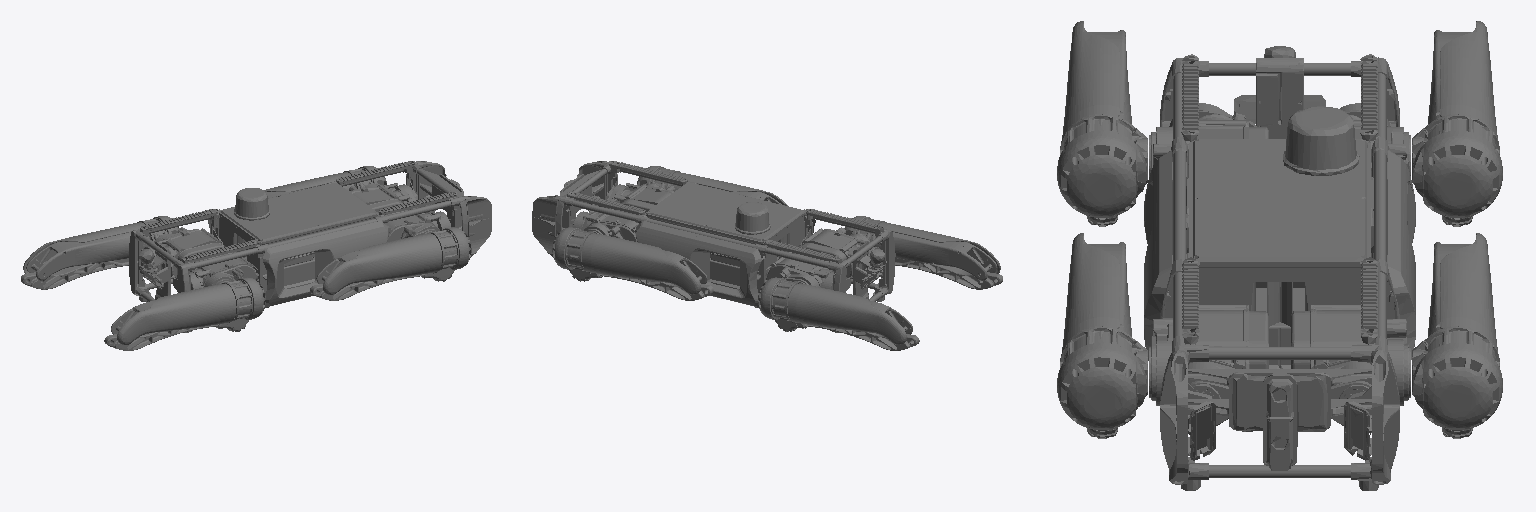
--- What the picture shows (computed from the rendered views, not written in the file) ---
3 views of the same robot in one strip: view 1: azimuth 30°, elevation 25°; view 2: azimuth 150°, elevation 25°; view 3: azimuth 270°, elevation 25° (orthographic).
Robot: vision60_composite — 35 links, 34 joints (12 revolute, 22 fixed); root link body; default pose: every joint at zero.
Visible links, largest first — view 1: body, upper2, upper3, upper1, hip1, hip3, hip2, hip0, lower1, upper0, lower2, lower3; view 2: body, upper0, upper1, upper3, hip3, hip1, hip0, upper2, hip2, lower3, lower1, lower0; view 3: body, upper1, upper0, upper3, upper2, hip2, hip0, hip3, hip1.
Boxes of the visible links, x1,y1,x2,y2 form: body: (129,161,491,332); upper2: (316,227,471,294); upper3: (111,277,265,344); upper1: (23,216,179,280); hip1: (144,227,223,278); hip3: (173,252,256,291); hip2: (377,208,450,241); hip0: (349,183,420,212); lower1: (21,258,128,289); upper0: (264,166,386,197); lower2: (310,268,454,300); lower3: (104,318,248,350); body: (532,161,895,332); upper0: (552,227,707,294); upper1: (758,277,912,344); upper3: (844,216,1000,280); hip3: (800,227,880,278); hip1: (767,252,850,290); hip0: (573,208,646,241); upper2: (637,166,787,205); hip2: (604,183,674,212); lower3: (895,258,1002,289); lower1: (775,319,919,350); lower0: (569,269,713,300); body: (1144,46,1415,490); upper1: (1412,21,1502,217); upper0: (1412,233,1502,429); upper3: (1057,21,1147,217); upper2: (1057,233,1147,429); hip2: (1149,305,1268,425); hip0: (1291,305,1410,425); hip3: (1149,103,1268,176); hip1: (1340,103,1410,175).
Bounding box of the posed robot: 1.21 × 0.5468 × 0.2652 m (x, y, z).
13 mesh visuals loaded from 5 distinct referenced files (5 binary STL).

URDF robot description (vision60_composite):
<?xml version="1.0" ?>
<!-- =================================================================================== -->
<!-- |    This document was autogenerated by xacro from vision60_v5_composite.urdf.xacro | -->
<!-- |    EDITING THIS FILE BY HAND IS NOT RECOMMENDED                                 | -->
<!-- =================================================================================== -->
<!--
 * Copyright (C) 2020 Ghost Robotics - All Rights Reserved
 * Unauthorized copying of this file, via any medium is strictly prohibited
 * Proprietary and confidential
-->
<robot name="vision60_composite">
  <!-- Define materials -->
  <material name="gray">
    <color rgba="0.5 0.5 0.5 1.0"/>
  </material>
  <material name="darkgray">
    <color rgba="0.3 0.3 0.3 1.0"/>
  </material>
  <material name="blue">
    <color rgba="0 0 0.8 1"/>
  </material>
  <material name="black">
    <color rgba="0 0 0 1"/>
  </material>
  <material name="purple">
    <color rgba="0.5 0.0 0.5 1.0"/>
  </material>
  <material name="red">
    <color rgba="0.8 0.0 0.2 1.0"/>
  </material>
  <!-- 1=stylish boxes, 0=appropriate meshes -->
  <!-- Body -->
  <link name="body">
    <visual>
      <origin rpy="0 0 0" xyz="0 0 0"/>
      <geometry>
        <mesh filename="package://ghost_description/meshes/Vision60_V4/decimated/V4_frame_transformed_decimated.stl" scale="1 1 1"/>
      </geometry>
      <material name="gray"/>
    </visual>
    <inertial>
      <origin rpy="0 0 0" xyz="-0.00068 -4e-05 -0.01148"/>
      <!--			<mass value="14.49326" />-->
      <mass value="13.600000000000001"/>
      <inertia ixx="0.13966910635" ixy="0.00216000038" ixz="-0.00087481805" iyy="0.60012721094" iyz="-9.986679e-05" izz="0.61763591657"/>
    </inertial>
    <collision>
      <origin rpy="0 0 0" xyz="0 0 0"/>
      <geometry>
        <box size="0.83 0.245 0.16"/>
      </geometry>
    </collision>
  </link>
  <!-- Hip motor -->
  <link name="hip0">
    <visual>
      <origin rpy="0 0 0" xyz="0 0.0 0"/>
      <geometry>
        <mesh filename="package://ghost_description/meshes/Vision60_V4/decimated/V4_hip_transformed_decimated.stl" scale="1 1 1"/>
      </geometry>
      <material name="gray"/>
    </visual>
    <inertial>
      <origin rpy="0 0 0" xyz="-0.0215 0.00241 0.0007"/>
      <!--			<mass value="2.16596" />-->
      <mass value="3.1"/>
      <inertia ixx="0.0038547528" ixy="3.461207e-05" ixz="-9.7936e-06" iyy="0.00851695491" iyz="-2.432235e-05" izz="0.0095299342"/>
    </inertial>
    <collision>
      <origin rpy="1.570796326795 0 0" xyz="-0.0271 -0.0050000000000000044 0"/>
      <geometry>
        <box size="0.19 0.09 0.14"/>
      </geometry>
    </collision>
  </link>
  <!-- Abduction joint. Joint names are: 8 9 10 11 -->
  <joint name="8" type="revolute">
    <parent link="body"/>
    <child link="hip0"/>
    <axis xyz="1 0 0"/>
    <origin xyz="0.308 0.0955 0"/>
    <limit effort="375" lower="-0.53" upper="0.53" velocity="8.6"/>
    <dynamics damping="0.0" friction="0.0"/>
  </joint>
  <!-- Upper leg -->
  <link name="upper0">
    <visual>
      <origin rpy="3.14159265359 0 0" xyz="0 0 0"/>
      <geometry>
        <mesh filename="package://ghost_description/meshes/Vision60_V4/decimated/V4_Upper_leg_transformed_decimated.stl" scale="1 1 1"/>
      </geometry>
      <material name="gray"/>
    </visual>
    <inertial>
      <origin rpy="0 0 0" xyz="0.14434 0.0 0.00186"/>
      <!--			<mass value="0.56268" />-->
      <mass value="0.65"/>
      <inertia ixx="0.00016212522" ixy="1.5074e-07" ixz="0.00041126588" iyy="0.01114596692" iyz="2.2276e-07" izz="0.01110311429"/>
    </inertial>
    <collision>
      <origin rpy="0 0 0" xyz="-0.17005 0.0 0"/>
      <geometry>
        <box size="0.3401 0.114 0.08"/>
      </geometry>
    </collision>
  </link>
  <!-- Hip joint. (Motor to upper leg). Joint names are: 0 2 4 6 -->
  <joint name="0" type="revolute">
    <parent link="hip0"/>
    <child link="upper0"/>
    <axis xyz="0 -1 0"/>
    <origin xyz="0 0.122 0"/>
    <!--  rpy="0 -0.3 0" -->
    <limit effort="87.5" lower="-6.28318530718" upper="6.28318530718" velocity="30"/>
    <dynamics damping="0.0" friction="0.0"/>
  </joint>
  <!-- Lower leg -->
  <link name="lower0">
    <visual>
      <origin rpy="0 0 0" xyz="0 0.0 0"/>
      <geometry>
        <mesh filename="package://ghost_description/meshes/Vision60_V4/decimated/V4_Lower_leg_transformed_decimated.stl" scale="1 1 1"/>
      </geometry>
      <material name="gray"/>
    </visual>
    <inertial>
      <origin rpy="0 0 0" xyz="-0.08855 0.00019 -0.00132"/>
      <!--			<mass value="2.82064" />-->
      <mass value="2.7"/>
      <inertia ixx="0.0026343095" ixy="2.111775e-05" ixz="0.00085593451" iyy="0.03517854533" iyz="1.97622e-06" izz="0.03531304953"/>
    </inertial>
    <collision>
      <origin rpy="0 1.570796326795 0" xyz="0.168215 0 0"/>
      <geometry>
        <cylinder length="0.33643" radius="0.02"/>
      </geometry>
    </collision>
  </link>
  <!-- Knee joint. Joint names are: 1 3 5 7 -->
  <joint name="1" type="revolute">
    <parent link="upper0"/>
    <child link="lower0"/>
    <axis xyz="0 1 0"/>
    <origin xyz="-0.3401 0 -0.0325"/>
    <!--rpy="0 0.5 0"-->
    <limit effort="87.5" lower="0" upper="3.14159265359" velocity="30"/>
    <dynamics damping="0.0" friction="0.0"/>
  </joint>
  <!-- Toe -->
  <link name="toe0">
    <visual>
      <origin rpy="0 0 0" xyz="0 0 0"/>
      <geometry>
        <sphere radius="0.001"/>
      </geometry>
      <material name="darkgray"/>
    </visual>
    <collision name="toe0_collision">
      <origin rpy="0 0 0" xyz="0 0 0"/>
      <geometry>
        <sphere radius="0.0325"/>
      </geometry>
      <surface>
        <friction>
          <torsional>
            <coefficient>100000.0</coefficient>
            <surface_radius>100000</surface_radius>
            <use_patch_radius>false</use_patch_radius>
          </torsional>
          <ode>
            <mu>10000</mu>
            <mu2>10000</mu2>
          </ode>
        </friction>
        <contact>
          <ode>
            <kp>300000.0</kp>
            <kd>10000.0</kd>
          </ode>
        </contact>
      </surface>
    </collision>
    <inertial>
      <mass value="0.05"/>
      <inertia ixx="0.000025" ixy="0" ixz="0" iyy="0.000025" iyz="0" izz="0.000025"/>
    </inertial>
  </link>
  <joint name="jtoe0" type="fixed">
    <parent link="lower0"/>
    <child link="toe0"/>
    <origin xyz="0.33643 0 -0.00628"/>
    <dynamics damping="0.0" friction="0.0"/>
  </joint>
  <!-- Hip motor -->
  <link name="hip1">
    <visual>
      <origin rpy="0 3.14159265359 0" xyz="0.0 0.0 0"/>
      <geometry>
        <mesh filename="package://ghost_description/meshes/Vision60_V4/decimated/V4_hip_transformed_decimated.stl" scale="1 1 1"/>
      </geometry>
      <material name="gray"/>
    </visual>
    <inertial>
      <origin rpy="0 0 0" xyz="-0.0215 0.00241 0.0007"/>
      <!--			<mass value="2.16596" />-->
      <mass value="3.1"/>
      <inertia ixx="0.0038547528" ixy="3.461207e-05" ixz="-9.7936e-06" iyy="0.00851695491" iyz="-2.432235e-05" izz="0.0095299342"/>
    </inertial>
    <collision>
      <origin rpy="1.570796326795 0 0" xyz="0.0271 -0.0050000000000000044 0"/>
      <geometry>
        <box size="0.19 0.09 0.14"/>
      </geometry>
    </collision>
  </link>
  <!-- Abduction joint. Joint names are: 8 9 10 11 -->
  <joint name="9" type="revolute">
    <parent link="body"/>
    <child link="hip1"/>
    <axis xyz="1 0 0"/>
    <origin xyz="-0.308 0.0955 0"/>
    <limit effort="375" lower="-0.53" upper="0.53" velocity="8.6"/>
    <dynamics damping="0.0" friction="0.0"/>
  </joint>
  <!-- Upper leg -->
  <link name="upper1">
    <visual>
      <origin rpy="3.14159265359 0 0" xyz="0 0 0"/>
      <geometry>
        <mesh filename="package://ghost_description/meshes/Vision60_V4/decimated/V4_Upper_leg_transformed_decimated.stl" scale="1 1 1"/>
      </geometry>
      <material name="gray"/>
    </visual>
    <inertial>
      <origin rpy="0 0 0" xyz="0.14434 0.0 0.00186"/>
      <!--			<mass value="0.56268" />-->
      <mass value="0.65"/>
      <inertia ixx="0.00016212522" ixy="1.5074e-07" ixz="0.00041126588" iyy="0.01114596692" iyz="2.2276e-07" izz="0.01110311429"/>
    </inertial>
    <collision>
      <origin rpy="0 0 0" xyz="-0.17005 0.0 0"/>
      <geometry>
        <box size="0.3401 0.114 0.08"/>
      </geometry>
    </collision>
  </link>
  <!-- Hip joint. (Motor to upper leg). Joint names are: 0 2 4 6 -->
  <joint name="2" type="revolute">
    <parent link="hip1"/>
    <child link="upper1"/>
    <axis xyz="0 -1 0"/>
    <origin xyz="0 0.122 0"/>
    <!--  rpy="0 -0.3 0" -->
    <limit effort="87.5" lower="-6.28318530718" upper="6.28318530718" velocity="30"/>
    <dynamics damping="0.0" friction="0.0"/>
  </joint>
  <!-- Lower leg -->
  <link name="lower1">
    <visual>
      <origin rpy="0 0 0" xyz="0 0.0 0"/>
      <geometry>
        <mesh filename="package://ghost_description/meshes/Vision60_V4/decimated/V4_Lower_leg_transformed_decimated.stl" scale="1 1 1"/>
      </geometry>
      <material name="gray"/>
    </visual>
    <inertial>
      <origin rpy="0 0 0" xyz="-0.08855 0.00019 -0.00132"/>
      <!--			<mass value="2.82064" />-->
      <mass value="2.7"/>
      <inertia ixx="0.0026343095" ixy="2.111775e-05" ixz="0.00085593451" iyy="0.03517854533" iyz="1.97622e-06" izz="0.03531304953"/>
    </inertial>
    <collision>
      <origin rpy="0 1.570796326795 0" xyz="0.168215 0 0"/>
      <geometry>
        <cylinder length="0.33643" radius="0.02"/>
      </geometry>
    </collision>
  </link>
  <!-- Knee joint. Joint names are: 1 3 5 7 -->
  <joint name="3" type="revolute">
    <parent link="upper1"/>
    <child link="lower1"/>
    <axis xyz="0 1 0"/>
    <origin xyz="-0.3401 0 -0.0325"/>
    <!--rpy="0 0.5 0"-->
    <limit effort="87.5" lower="0" upper="3.14159265359" velocity="30"/>
    <dynamics damping="0.0" friction="0.0"/>
  </joint>
  <!-- Toe -->
  <link name="toe1">
    <visual>
      <origin rpy="0 0 0" xyz="0 0 0"/>
      <geometry>
        <sphere radius="0.001"/>
      </geometry>
      <material name="darkgray"/>
    </visual>
    <collision name="toe1_collision">
      <origin rpy="0 0 0" xyz="0 0 0"/>
      <geometry>
        <sphere radius="0.0325"/>
      </geometry>
      <surface>
        <friction>
          <torsional>
            <coefficient>100000.0</coefficient>
            <surface_radius>100000</surface_radius>
            <use_patch_radius>false</use_patch_radius>
          </torsional>
          <ode>
            <mu>10000</mu>
            <mu2>10000</mu2>
          </ode>
        </friction>
        <contact>
          <ode>
            <kp>300000.0</kp>
            <kd>10000.0</kd>
          </ode>
        </contact>
      </surface>
    </collision>
    <inertial>
      <mass value="0.05"/>
      <inertia ixx="0.000025" ixy="0" ixz="0" iyy="0.000025" iyz="0" izz="0.000025"/>
    </inertial>
  </link>
  <joint name="jtoe1" type="fixed">
    <parent link="lower1"/>
    <child link="toe1"/>
    <origin xyz="0.33643 0 -0.00628"/>
    <dynamics damping="0.0" friction="0.0"/>
  </joint>
  <!-- Hip motor -->
  <link name="hip2">
    <visual>
      <origin rpy="3.14159265359 0 0" xyz="0.0 0 0.0"/>
      <geometry>
        <mesh filename="package://ghost_description/meshes/Vision60_V4/decimated/V4_hip_transformed_decimated.stl" scale="1 1 1"/>
      </geometry>
      <material name="gray"/>
    </visual>
    <inertial>
      <origin rpy="0 0 0" xyz="-0.0215 0.00241 0.0007"/>
      <!--			<mass value="2.16596" />-->
      <mass value="3.1"/>
      <inertia ixx="0.0038547528" ixy="3.461207e-05" ixz="-9.7936e-06" iyy="0.00851695491" iyz="-2.432235e-05" izz="0.0095299342"/>
    </inertial>
    <collision>
      <origin rpy="1.570796326795 0 0" xyz="-0.0271 0.0050000000000000044 0"/>
      <geometry>
        <box size="0.19 0.09 0.14"/>
      </geometry>
    </collision>
  </link>
  <!-- Abduction joint. Joint names are: 8 9 10 11 -->
  <joint name="10" type="revolute">
    <parent link="body"/>
    <child link="hip2"/>
    <axis xyz="1 0 0"/>
    <origin xyz="0.308 -0.0955 0"/>
    <limit effort="375" lower="-0.53" upper="0.53" velocity="8.6"/>
    <dynamics damping="0.0" friction="0.0"/>
  </joint>
  <!-- Upper leg -->
  <link name="upper2">
    <visual>
      <!-- Right-->
      <origin rpy="0 0 0" xyz="0 0 0"/>
      <geometry>
        <mesh filename="package://ghost_description/meshes/Vision60_V4/decimated/V4_Upper_leg_mirrored_transformed_decimated.stl" scale="1 1 1"/>
      </geometry>
      <material name="gray"/>
    </visual>
    <inertial>
      <origin rpy="0 0 0" xyz="0.14434 0.0 0.00186"/>
      <!--			<mass value="0.56268" />-->
      <mass value="0.65"/>
      <inertia ixx="0.00016212522" ixy="1.5074e-07" ixz="0.00041126588" iyy="0.01114596692" iyz="2.2276e-07" izz="0.01110311429"/>
    </inertial>
    <collision>
      <origin rpy="0 0 0" xyz="-0.17005 -0.0 0"/>
      <geometry>
        <box size="0.3401 0.114 0.08"/>
      </geometry>
    </collision>
  </link>
  <!-- Hip joint. (Motor to upper leg). Joint names are: 0 2 4 6 -->
  <joint name="4" type="revolute">
    <parent link="hip2"/>
    <child link="upper2"/>
    <axis xyz="0 -1 0"/>
    <origin xyz="0 -0.122 0"/>
    <!--  rpy="0 -0.3 0" -->
    <limit effort="87.5" lower="-6.28318530718" upper="6.28318530718" velocity="30"/>
    <dynamics damping="0.0" friction="0.0"/>
  </joint>
  <!-- Lower leg -->
  <link name="lower2">
    <visual>
      <origin rpy="0 0 0" xyz="0 0.0 0"/>
      <geometry>
        <mesh filename="package://ghost_description/meshes/Vision60_V4/decimated/V4_Lower_leg_transformed_decimated.stl" scale="1 1 1"/>
      </geometry>
      <material name="gray"/>
    </visual>
    <inertial>
      <origin rpy="0 0 0" xyz="-0.08855 0.00019 -0.00132"/>
      <!--			<mass value="2.82064" />-->
      <mass value="2.7"/>
      <inertia ixx="0.0026343095" ixy="2.111775e-05" ixz="0.00085593451" iyy="0.03517854533" iyz="1.97622e-06" izz="0.03531304953"/>
    </inertial>
    <collision>
      <origin rpy="0 1.570796326795 0" xyz="0.168215 0 0"/>
      <geometry>
        <cylinder length="0.33643" radius="0.02"/>
      </geometry>
    </collision>
  </link>
  <!-- Knee joint. Joint names are: 1 3 5 7 -->
  <joint name="5" type="revolute">
    <parent link="upper2"/>
    <child link="lower2"/>
    <axis xyz="0 1 0"/>
    <origin xyz="-0.3401 0 -0.0325"/>
    <!--rpy="0 0.5 0"-->
    <limit effort="87.5" lower="0" upper="3.14159265359" velocity="30"/>
    <dynamics damping="0.0" friction="0.0"/>
  </joint>
  <!-- Toe -->
  <link name="toe2">
    <visual>
      <origin rpy="0 0 0" xyz="0 0 0"/>
      <geometry>
        <sphere radius="0.001"/>
      </geometry>
      <material name="darkgray"/>
    </visual>
    <collision name="toe2_collision">
      <origin rpy="0 0 0" xyz="0 0 0"/>
      <geometry>
        <sphere radius="0.0325"/>
      </geometry>
      <surface>
        <friction>
          <torsional>
            <coefficient>100000.0</coefficient>
            <surface_radius>100000</surface_radius>
            <use_patch_radius>false</use_patch_radius>
          </torsional>
          <ode>
            <mu>10000</mu>
            <mu2>10000</mu2>
          </ode>
        </friction>
        <contact>
          <ode>
            <kp>300000.0</kp>
            <kd>10000.0</kd>
          </ode>
        </contact>
      </surface>
    </collision>
    <inertial>
      <mass value="0.05"/>
      <inertia ixx="0.000025" ixy="0" ixz="0" iyy="0.000025" iyz="0" izz="0.000025"/>
    </inertial>
  </link>
  <joint name="jtoe2" type="fixed">
    <parent link="lower2"/>
    <child link="toe2"/>
    <origin xyz="0.33643 0 -0.00628"/>
    <dynamics damping="0.0" friction="0.0"/>
  </joint>
  <!-- Hip motor -->
  <link name="hip3">
    <visual>
      <origin rpy="3.14159265359 3.14159265359 0" xyz="0.0 0.0 0.0"/>
      <geometry>
        <mesh filename="package://ghost_description/meshes/Vision60_V4/decimated/V4_hip_transformed_decimated.stl" scale="1 1 1"/>
      </geometry>
      <material name="gray"/>
    </visual>
    <inertial>
      <origin rpy="0 0 0" xyz="-0.0215 0.00241 0.0007"/>
      <!--			<mass value="2.16596" />-->
      <mass value="3.1"/>
      <inertia ixx="0.0038547528" ixy="3.461207e-05" ixz="-9.7936e-06" iyy="0.00851695491" iyz="-2.432235e-05" izz="0.0095299342"/>
    </inertial>
    <collision>
      <origin rpy="1.570796326795 0 0" xyz="0.0271 0.0050000000000000044 0"/>
      <geometry>
        <box size="0.19 0.09 0.14"/>
      </geometry>
    </collision>
  </link>
  <!-- Abduction joint. Joint names are: 8 9 10 11 -->
  <joint name="11" type="revolute">
    <parent link="body"/>
    <child link="hip3"/>
    <axis xyz="1 0 0"/>
    <origin xyz="-0.308 -0.0955 0"/>
    <limit effort="375" lower="-0.53" upper="0.53" velocity="8.6"/>
    <dynamics damping="0.0" friction="0.0"/>
  </joint>
  <!-- Upper leg -->
  <link name="upper3">
    <visual>
      <!-- Right-->
      <origin rpy="0 0 0" xyz="0 0 0"/>
      <geometry>
        <mesh filename="package://ghost_description/meshes/Vision60_V4/decimated/V4_Upper_leg_mirrored_transformed_decimated.stl" scale="1 1 1"/>
      </geometry>
      <material name="gray"/>
    </visual>
    <inertial>
      <origin rpy="0 0 0" xyz="0.14434 0.0 0.00186"/>
      <!--			<mass value="0.56268" />-->
      <mass value="0.65"/>
      <inertia ixx="0.00016212522" ixy="1.5074e-07" ixz="0.00041126588" iyy="0.01114596692" iyz="2.2276e-07" izz="0.01110311429"/>
    </inertial>
    <collision>
      <origin rpy="0 0 0" xyz="-0.17005 -0.0 0"/>
      <geometry>
        <box size="0.3401 0.114 0.08"/>
      </geometry>
    </collision>
  </link>
  <!-- Hip joint. (Motor to upper leg). Joint names are: 0 2 4 6 -->
  <joint name="6" type="revolute">
    <parent link="hip3"/>
    <child link="upper3"/>
    <axis xyz="0 -1 0"/>
    <origin xyz="0 -0.122 0"/>
    <!--  rpy="0 -0.3 0" -->
    <limit effort="87.5" lower="-6.28318530718" upper="6.28318530718" velocity="30"/>
    <dynamics damping="0.0" friction="0.0"/>
  </joint>
  <!-- Lower leg -->
  <link name="lower3">
    <visual>
      <origin rpy="0 0 0" xyz="0 0.0 0"/>
      <geometry>
        <mesh filename="package://ghost_description/meshes/Vision60_V4/decimated/V4_Lower_leg_transformed_decimated.stl" scale="1 1 1"/>
      </geometry>
      <material name="gray"/>
    </visual>
    <inertial>
      <origin rpy="0 0 0" xyz="-0.08855 0.00019 -0.00132"/>
      <!--			<mass value="2.82064" />-->
      <mass value="2.7"/>
      <inertia ixx="0.0026343095" ixy="2.111775e-05" ixz="0.00085593451" iyy="0.03517854533" iyz="1.97622e-06" izz="0.03531304953"/>
    </inertial>
    <collision>
      <origin rpy="0 1.570796326795 0" xyz="0.168215 0 0"/>
      <geometry>
        <cylinder length="0.33643" radius="0.02"/>
      </geometry>
    </collision>
  </link>
  <!-- Knee joint. Joint names are: 1 3 5 7 -->
  <joint name="7" type="revolute">
    <parent link="upper3"/>
    <child link="lower3"/>
    <axis xyz="0 1 0"/>
    <origin xyz="-0.3401 0 -0.0325"/>
    <!--rpy="0 0.5 0"-->
    <limit effort="87.5" lower="0" upper="3.14159265359" velocity="30"/>
    <dynamics damping="0.0" friction="0.0"/>
  </joint>
  <!-- Toe -->
  <link name="toe3">
    <visual>
      <origin rpy="0 0 0" xyz="0 0 0"/>
      <geometry>
        <sphere radius="0.001"/>
      </geometry>
      <material name="darkgray"/>
    </visual>
    <collision name="toe3_collision">
      <origin rpy="0 0 0" xyz="0 0 0"/>
      <geometry>
        <sphere radius="0.0325"/>
      </geometry>
      <surface>
        <friction>
          <torsional>
            <coefficient>100000.0</coefficient>
            <surface_radius>100000</surface_radius>
            <use_patch_radius>false</use_patch_radius>
          </torsional>
          <ode>
            <mu>10000</mu>
            <mu2>10000</mu2>
          </ode>
        </friction>
        <contact>
          <ode>
            <kp>300000.0</kp>
            <kd>10000.0</kd>
          </ode>
        </contact>
      </surface>
    </collision>
    <inertial>
      <mass value="0.05"/>
      <inertia ixx="0.000025" ixy="0" ixz="0" iyy="0.000025" iyz="0" izz="0.000025"/>
    </inertial>
  </link>
  <joint name="jtoe3" type="fixed">
    <parent link="lower3"/>
    <child link="toe3"/>
    <origin xyz="0.33643 0 -0.00628"/>
    <dynamics damping="0.0" friction="0.0"/>
  </joint>
  <link name="front_sensor_head_link"/>
  <link name="t265_rot_link"/>
  <joint name="fsh_frame_to_fisheye_center" type="fixed">
    <parent link="front_sensor_head_link"/>
    <child link="t265_rot_link"/>
    <origin rpy="0 0 0" xyz="0.03655 0.0 0.014"/>
    <axis xyz="1 0 0"/>
  </joint>
  <link name="t265_fisheye1_frame"/>
  <joint name="t265_pose_frame_to_t265_rot" type="fixed">
    <child link="t265_pose_frame"/>
    <parent link="t265_rot_link"/>
    <origin rpy="1.57 0 0" xyz="0 0 0"/>
    <axis xyz="1 0 0"/>
  </joint>
  <link name="t265_pose_frame"/>
  <joint name="t265_fisheye1_frame_to_center" type="fixed">
    <parent link="t265_pose_frame"/>
    <child link="t265_fisheye1_frame"/>
    <origin rpy="0 0 0" xyz="0.0 0.032 0.0"/>
    <axis xyz="1 0 0"/>
  </joint>
  <!-- begin branch 2 from t265_fisheye1_frame -->
  <!-- connect to the rest of the sensors -->
  <link name="t265_fisheye1_optical_frame"/>
  <joint name="t265_left_frame_to_t265_left_optical" type="fixed">
    <parent link="t265_fisheye1_frame"/>
    <child link="t265_fisheye1_optical_frame"/>
    <origin rpy="-1.571 0 -1.571" xyz="0.0 0.0 0.0"/>
    <axis xyz="1 0 0 "/>
  </joint>
  <!-- Left PMD -->
  <link name="left_tof_optical_parent_frame"/>
  <joint name="t265_left_optical_link_to_left_tof_optical_frame" type="fixed">
    <parent link="t265_fisheye1_optical_frame"/>
    <child link="left_tof_optical_parent_frame"/>
    <origin rpy="0.3961 0.4984 0.1937" xyz="0.0129 0.0225 -0.0088"/>
    <axis xyz="0 0 1"/>
  </joint>
  <link name="left_tof_link"/>
  <joint name="left_tof_parent_to_sensor" type="fixed">
    <parent link="left_tof_optical_parent_frame"/>
    <child link="left_tof_link"/>
    <origin rpy="1.5708 -1.5708 0 " xyz="0 0 0"/>
    <axis xyz="1 0 0"/>
  </joint>
  <!-- Right PMD -->
  <link name="right_tof_optical_parent_frame"/>
  <joint name="left_tof_optical_frame_to_right_tof_optical_frame" type="fixed">
    <parent link="left_tof_optical_parent_frame"/>
    <child link="right_tof_optical_parent_frame"/>
    <origin rpy="-0.5896 -0.0931 -0.3423" xyz="-0.0084 -0.0420 0.0126"/>
    <axis xyz="0 0 1"/>
  </joint>
  <link name="right_tof_link"/>
  <joint name="right_tof_parent_to_sensor" type="fixed">
    <parent link="right_tof_optical_parent_frame"/>
    <child link="right_tof_link"/>
    <origin rpy="1.5708 -1.5708 0" xyz="0 0 0"/>
    <axis xyz="1 0 0"/>
  </joint>
  <!-- Rigid transform between low level "body" and high "level" body-->
  <joint name="body_to_front_sensor_head" type="fixed">
    <parent link="body"/>
    <child link="front_sensor_head_link"/>
    <origin xyz="0.425 0 0"/>
    <axis xyz="1 0 0"/>
  </joint>
  <!-- fake offset needed for planner DO NOT CHANGE -->
  <link name="body_planner"/>
  <joint name="body_to_planner_body" type="fixed">
    <parent link="body"/>
    <child link="body_planner"/>
    <origin xyz="0.015 0 -0.04"/>
    <axis xyz="1 0 0"/>
  </joint>
  <link name="imu_link"/>
  <joint name="body_to_imu_link" type="fixed">
    <parent link="body"/>
    <child link="imu_link"/>
    <origin rpy="0 0 0" xyz="0.00584 0.00812 0.012605"/>
    <axis xyz="1 0 0"/>
  </joint>
  <link name="imu_raw_link"/>
  <joint name="body_to_imu_raw_link" type="fixed">
    <parent link="body"/>
    <child link="imu_raw_link"/>
    <origin rpy="3.141593 0 1.570796" xyz="0.00584 0.00812 0.012605"/>
    <axis xyz="1 0 0"/>
  </joint>
  <link name="os1_sensor"/>
  <joint name="body_to_os1_sensor" type="fixed">
    <parent link="body"/>
    <child link="os1_sensor"/>
    <origin rpy="0 0 0" xyz="0.4372 0 0"/>
    <axis xyz="1 0 0"/>
  </joint>
  <link name="s_right_tof_link"/>
  <joint name="body_to_s_right_tof" type="fixed">
    <parent link="body"/>
    <child link="s_right_tof_link"/>
    <origin rpy="3.1415 0.524 -1.57" xyz="-0.082 -0.119 0.061"/>
    <axis xyz="1 0 0"/>
  </joint>
  <link name="s_left_tof_link"/>
  <joint name="body_to_s_left_tof" type="fixed">
    <parent link="body"/>
    <child link="s_left_tof_link"/>
    <origin rpy="0 0.524 1.57" xyz="-0.082 0.119 0.061"/>
    <axis xyz="1 0 0"/>
  </joint>
  <!--    Rear_tof    -->
  <link name="rear_tof_link"/>
  <joint name="body_to_rear_tof" type="fixed">
    <parent link="body"/>
    <child link="rear_tof_link"/>
    <origin rpy="0.0 0.55 3.14" xyz="-0.43687 -0.01875 0.04171"/>
    <axis xyz="1 0 0"/>
  </joint>
  <!-- Fake front depth camera -->
  <link name="synth_depth_left_camera_frame"/>
  <joint name="synth_depth_left_camera_joint" type="fixed">
    <parent link="front_sensor_head_link"/>
    <child link="synth_depth_left_camera_frame"/>
    <origin rpy="0 0.25 0" xyz="0 0 -0.15"/>
    <axis xyz="0 1 0"/>
  </joint>
  <link name="synth_depth_left_camera_optical_frame"/>
  <joint name="synth_depth_left_camera_optical_frame" type="fixed">
    <origin rpy="-1.57079632679 0.0 -1.57079632679" xyz="0 0 0"/>
    <parent link="synth_depth_left_camera_frame"/>
    <child link="synth_depth_left_camera_optical_frame"/>
  </joint>
  <!-- Frame corners -->
  <!-- Top corners -->
  <!--
   <link name="flt_corner_link"/>
    <joint name="body_to_flt_corner_link" type="fixed">
        <parent link="body"/>
        <child link="flt_corner_link"/>
       <origin xyz="0.425  0.115 0.09" rpy="0.0 0.0 0.0"/>
        <axis xyz="1 0 0"/>
    </joint>


    <link name="frt_corner_link"/>
    <joint name="body_to_frt_corner_link" type="fixed">
        <parent link="body"/>
        <child link="frt_corner_link"/>
       <origin xyz="0.425  -0.115 0.09" rpy="0.0 0.0 0.0"/>
        <axis xyz="1 0 0"/>
    </joint>
    
    <link name="brt_corner_link"/>
    <joint name="body_to_brt_corner_link" type="fixed">
        <parent link="body"/>
        <child link="brt_corner_link"/>
       <origin xyz="-0.425  -0.115 0.09" rpy="0.0 0.0 0.0"/>
        <axis xyz="1 0 0"/>
    </joint>


    <link name="blt_corner_link"/>
    <joint name="body_to_blt_corner_link" type="fixed">
        <parent link="body"/>
        <child link="blt_corner_link"/>
       <origin xyz="-0.425  0.115 0.09" rpy="0.0 0.0 0.0"/>
        <axis xyz="1 0 0"/>
    </joint>
-->
  <!-- bottom corners-->
  <!--
    <link name="flb_corner_link"/>
    <joint name="body_to_flb_corner_link" type="fixed">
        <parent link="body"/>
        <child link="flb_corner_link"/>
       <origin xyz="0.425  0.115 -0.09" rpy="0.0 0.0 0.0"/>
        <axis xyz="1 0 0"/>
    </joint>


    <link name="frb_corner_link"/>
    <joint name="body_to_frb_corner_link" type="fixed">
        <parent link="body"/>
        <child link="frb_corner_link"/>
       <origin xyz="0.425  -0.115 -0.09" rpy="0.0 0.0 0.0"/>
        <axis xyz="1 0 0"/>
    </joint>

    <link name="brb_corner_link"/>
    <joint name="body_to_brb_corner_link" type="fixed">
        <parent link="body"/>
        <child link="brb_corner_link"/>
       <origin xyz="-0.425  -0.115 -0.09" rpy="0.0 0.0 0.0"/>
        <axis xyz="1 0 0"/>
    </joint>

    <link name="blb_corner_link"/>
    <joint name="body_to_blb_corner_link" type="fixed">
        <parent link="body"/>
        <child link="blb_corner_link"/>
       <origin xyz="-0.425  0.115 -0.09" rpy="0.0 0.0 0.0"/>
        <axis xyz="1 0 0"/>
    </joint>
-->
</robot>
